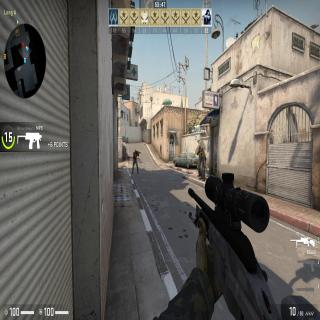T-Body: (196, 145, 206, 179), (132, 148, 140, 174)
T-Head: (198, 145, 202, 151), (135, 148, 137, 152)
